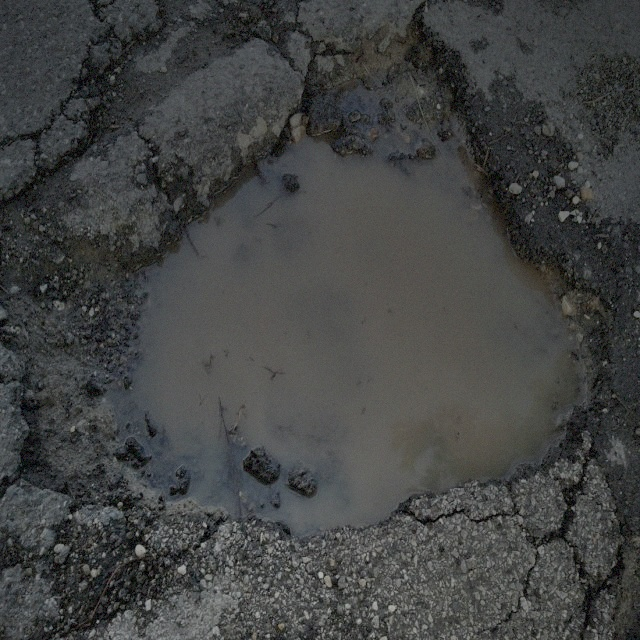pothole: (12, 17, 611, 550), (97, 25, 606, 545), (8, 195, 142, 518)
